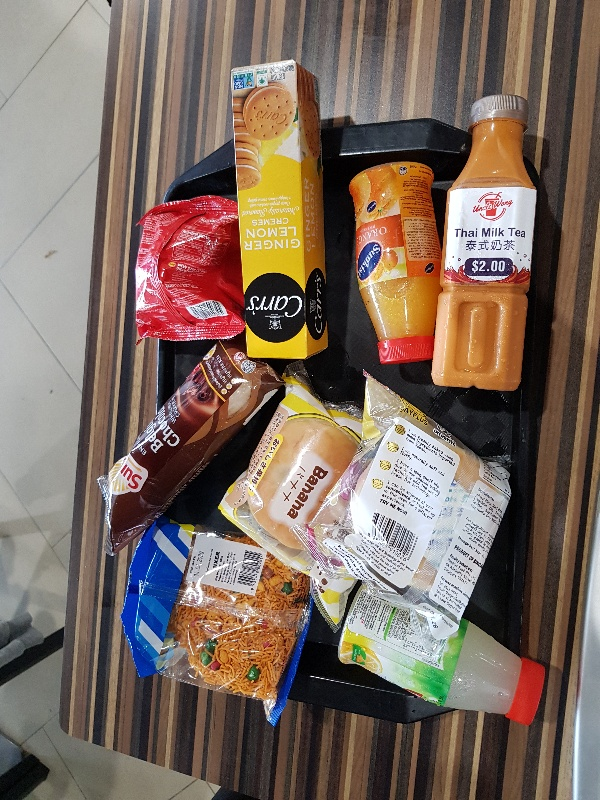Carr's Ginger Lemon Cremes: (230, 58, 327, 361)
Dayplus Banana: (219, 370, 365, 633)
Dayplus Red Bean: (297, 376, 511, 643)
Fruit Tree Yuzu Mixed Juice Drink: (339, 582, 548, 727)
ShoyueMi Spicy Flavoured Snacks: (132, 195, 245, 343)
Star Tidbits Mixer: (120, 517, 310, 726)
Sunkist Orange Juice Drink: (348, 162, 444, 366)
Sunshine Belgium Chocolate Wholemeal Cream Bun: (93, 337, 282, 557)
Thai Milk Tea: (431, 94, 537, 393)
